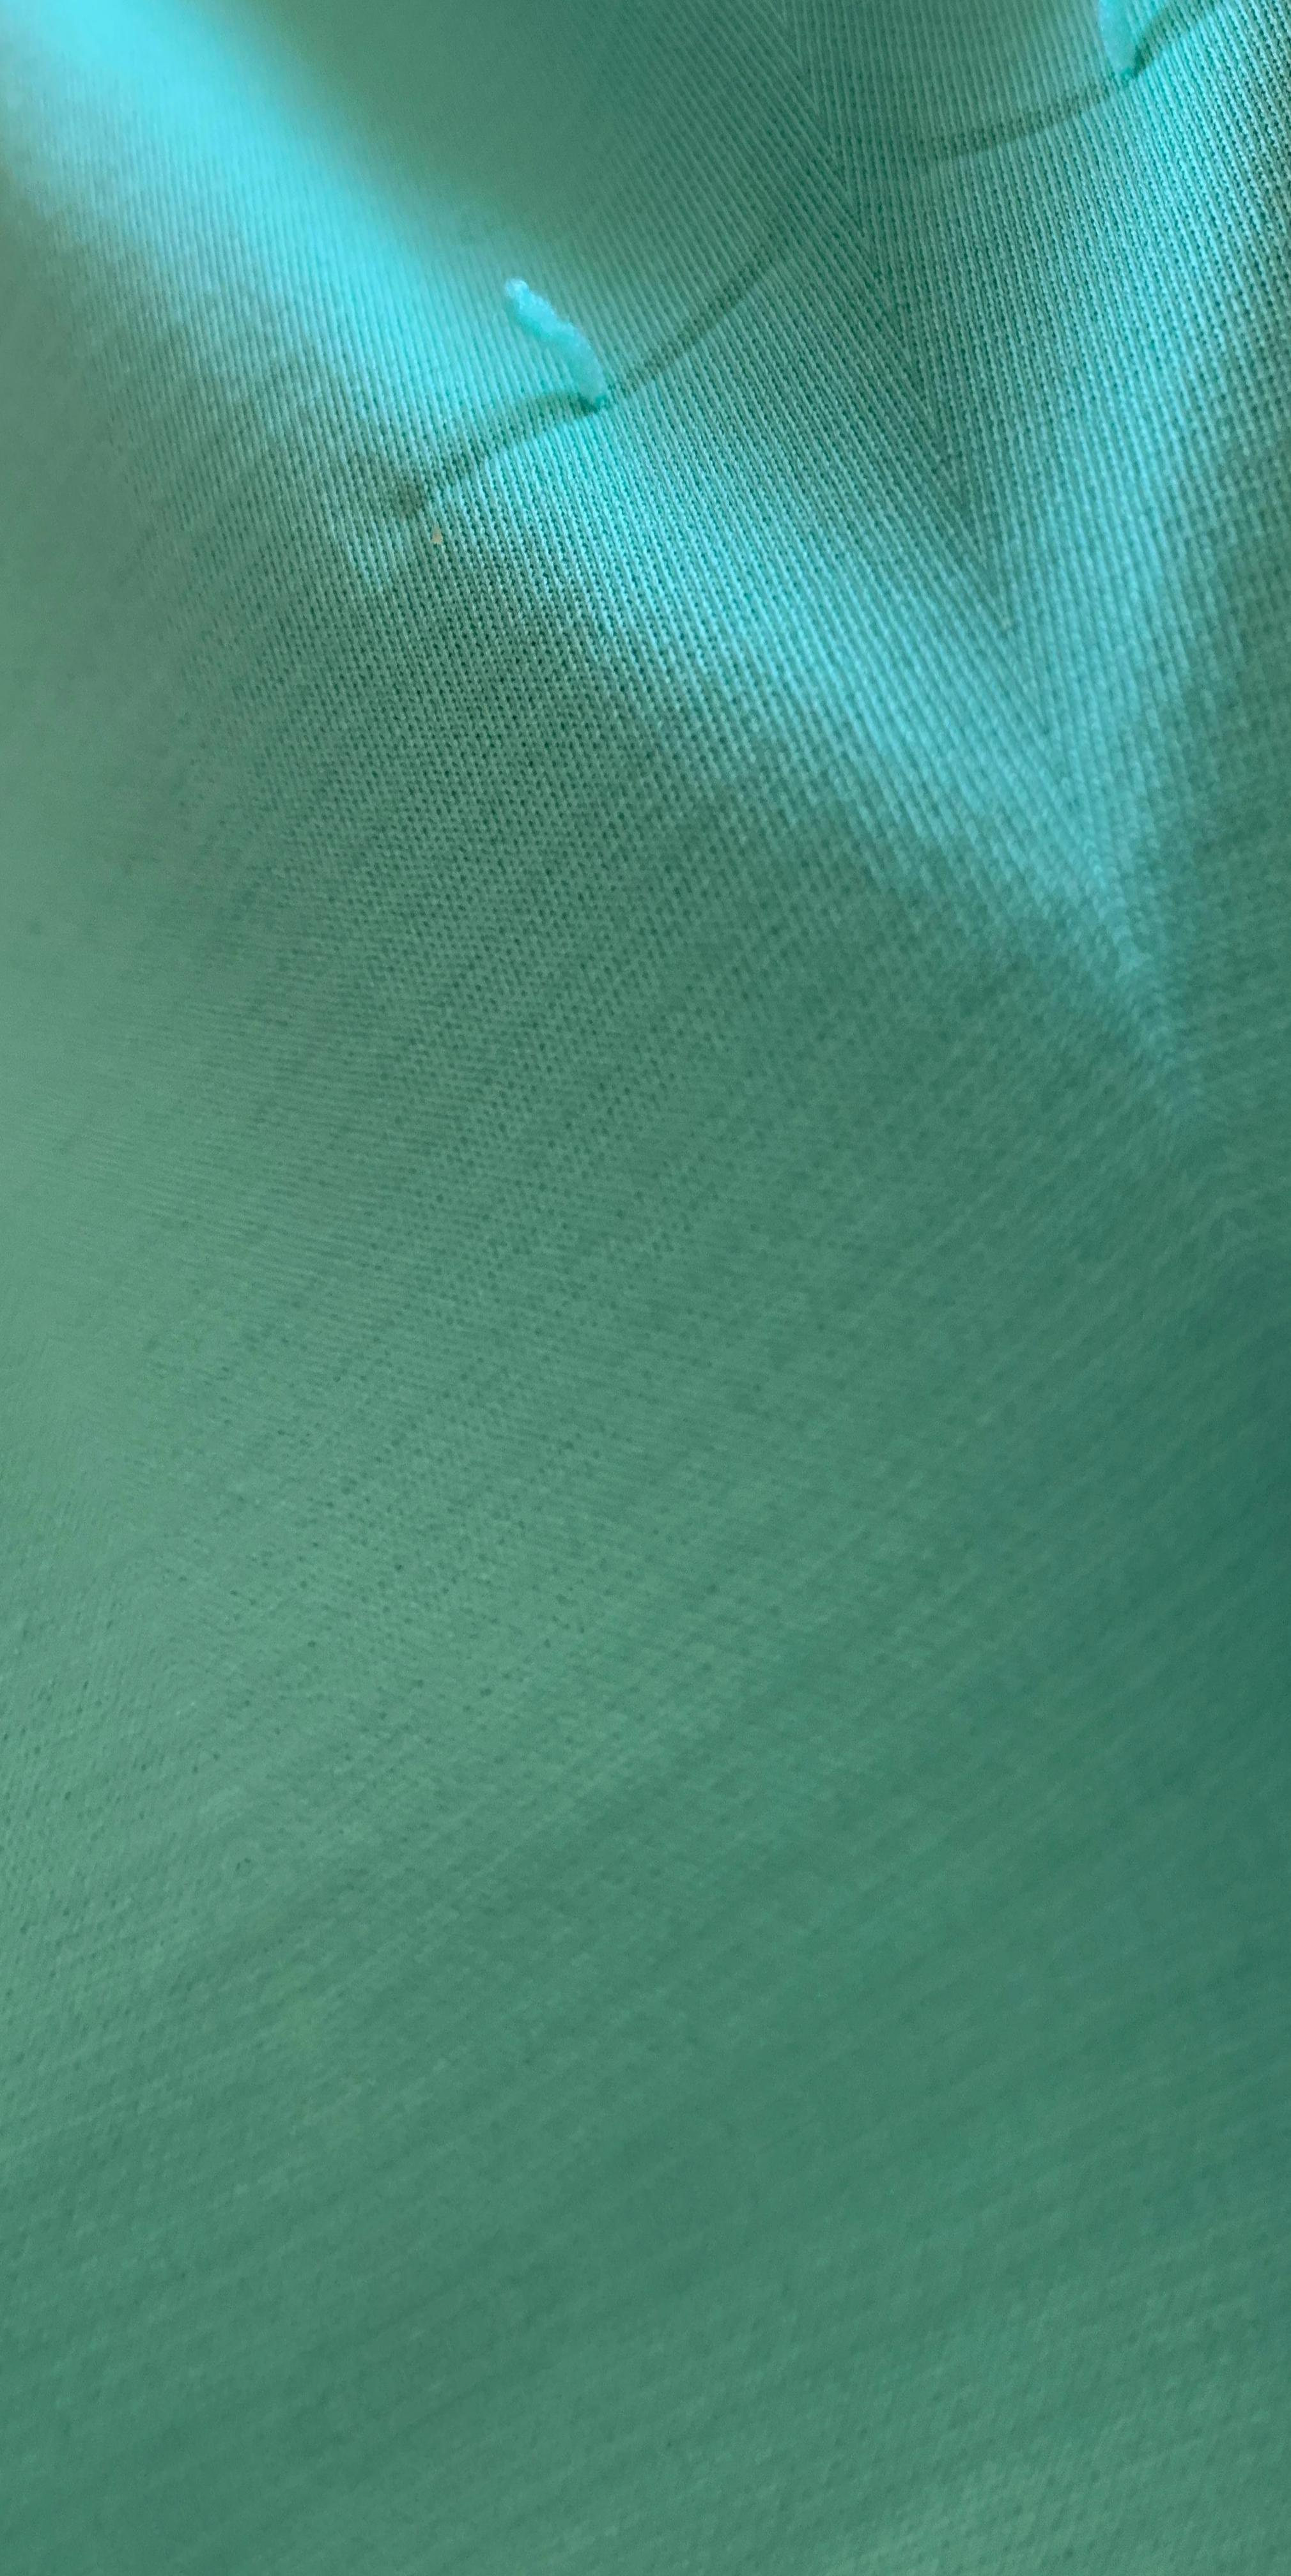snag: (464, 226, 720, 491), (1029, 15, 1210, 161)
